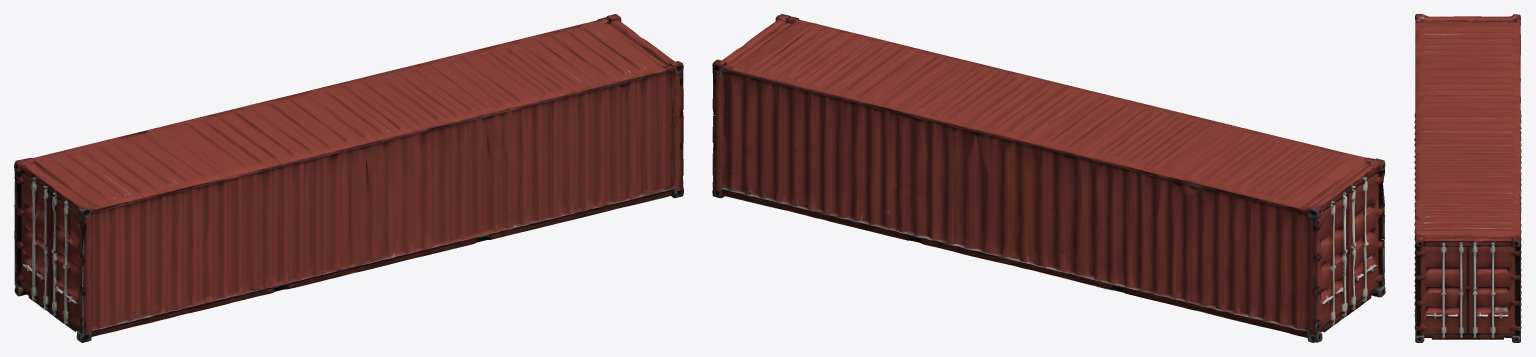
Rendered from container-40ft.glb.
3 views of the same model, side by side, from view 1: azimuth 30°, elevation 25°; view 2: azimuth 150°, elevation 25°; view 3: azimuth 270°, elevation 25° (orthographic). The views are drawn at different scales.
Parts seen in each view (by area): view 1: container-40ft; view 2: container-40ft; view 3: container-40ft.
Part boxes in pixels (x1,y1,x2,y2): container-40ft: (14,14,683,342); container-40ft: (712,14,1385,342); container-40ft: (1414,14,1521,342).
Bounding box in the file's own units: 12.19 × 2.59 × 2.44.
1 material, 1 textured.
